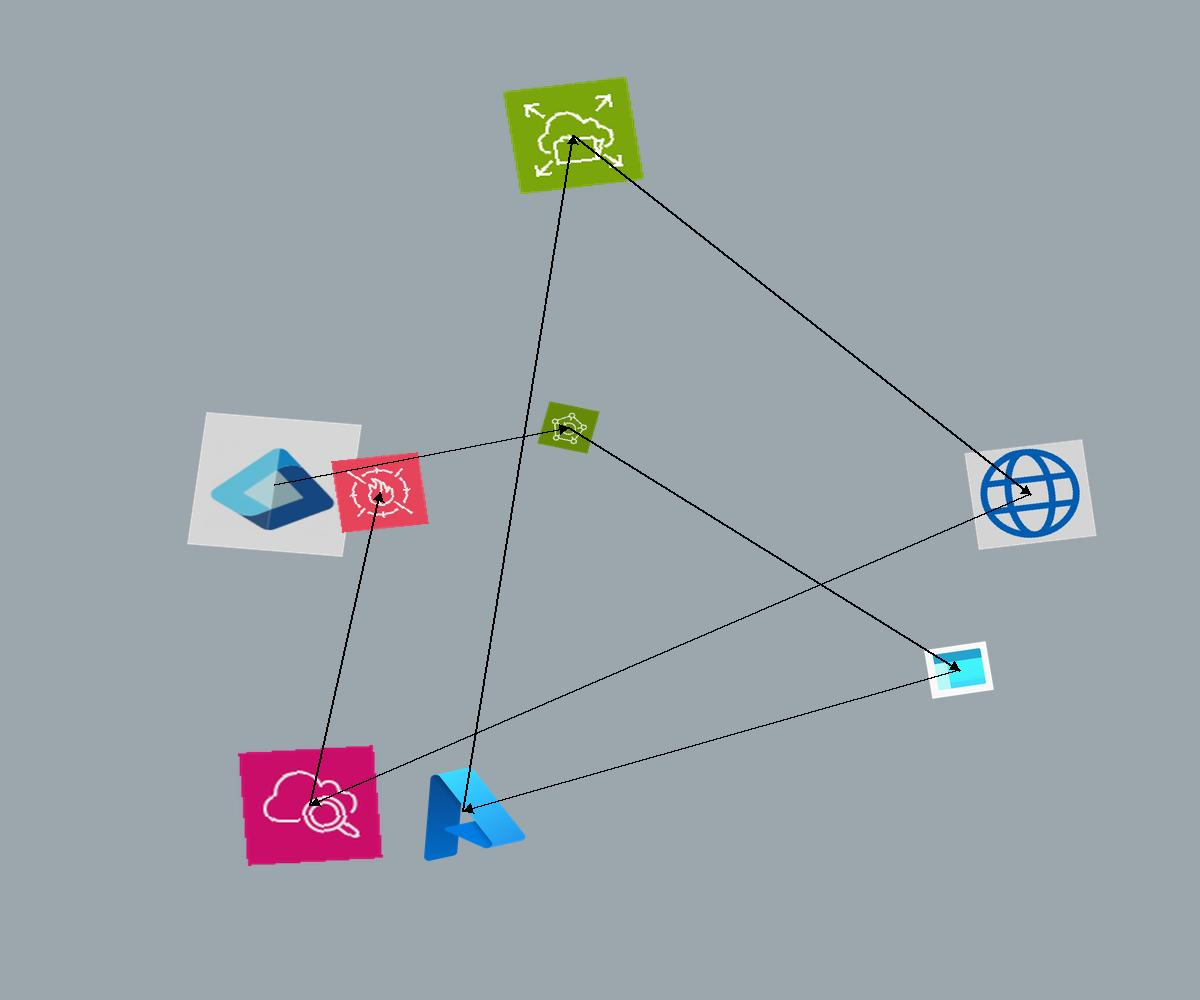AWS-Backup: (537, 401, 600, 454)
AWS-CloudWatch: (238, 745, 383, 866)
AWS-EFS: (502, 76, 645, 195)
AWS-WAF: (331, 452, 429, 533)
Azure_http: (964, 439, 1097, 550)
Azure_management-portal: (924, 641, 994, 699)
Azure_microsoft_entra: (187, 412, 362, 557)
Azure_services: (394, 753, 533, 869)
